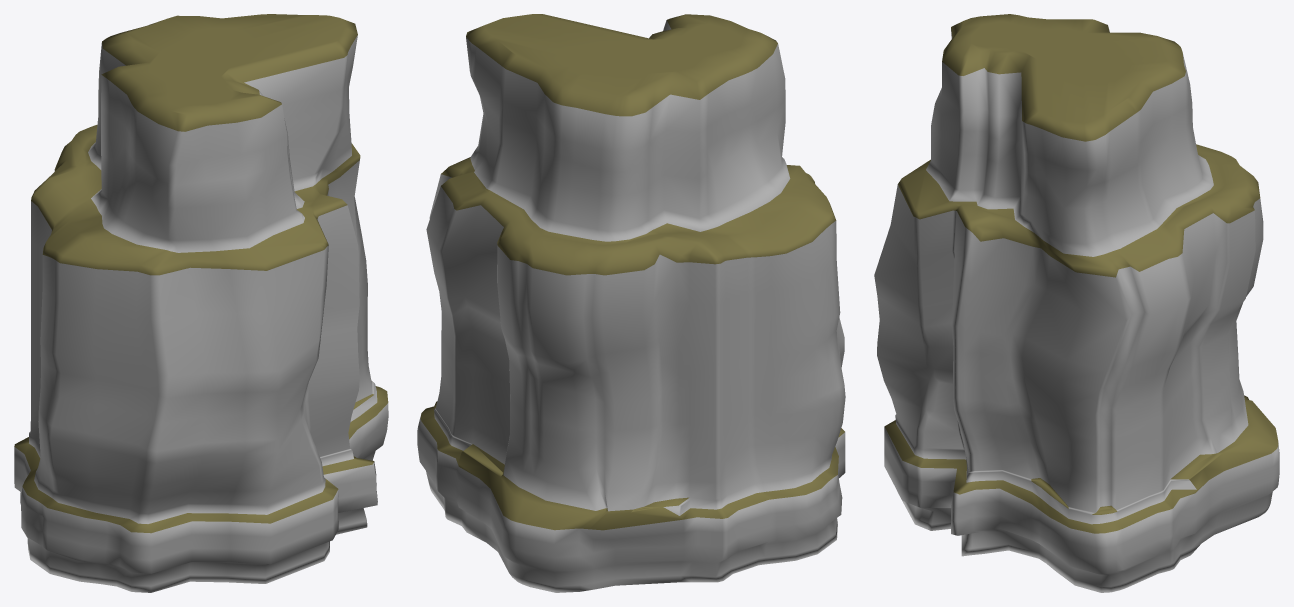
File: Montaña maya.fbx
3 renders of one model, left to right at view 1: azimuth 30°, elevation 25°; view 2: azimuth 150°, elevation 25°; view 3: azimuth 270°, elevation 25°, orthographic. The views are drawn at different scales.
Visible parts, largest first — view 1: pCube1; view 2: pCube1; view 3: pCube1.
Boxes of the visible parts, x1,y1,x2,y2 form: pCube1: (14, 14, 388, 592); pCube1: (417, 14, 845, 592); pCube1: (874, 14, 1279, 592).
Size of the model in its own units: 5.88 by 6.73 by 5.51.
